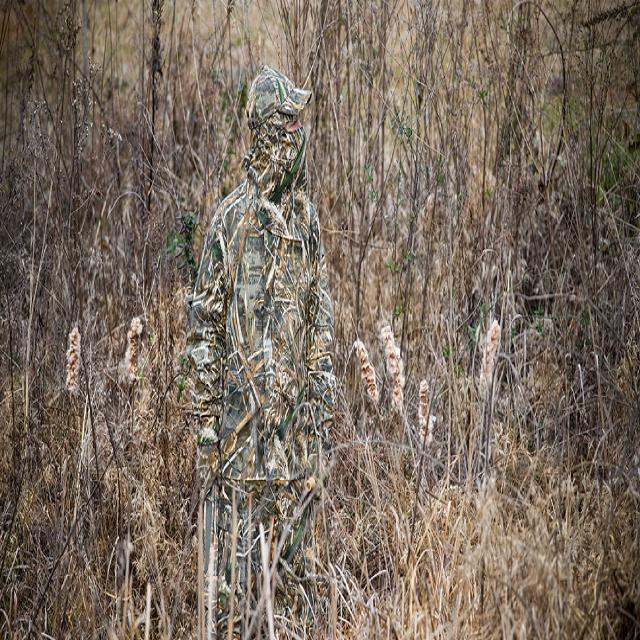Human: (184, 67, 331, 616)
